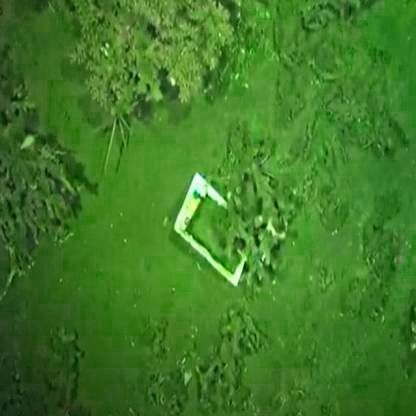misc: (166, 171, 290, 328)
